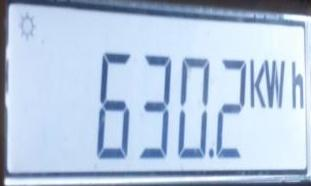.: (249, 58, 307, 110)
0: (207, 148, 215, 159)
1: (177, 55, 211, 161)
3: (214, 58, 248, 159)
4: (140, 57, 174, 160)
7: (90, 53, 134, 160)
